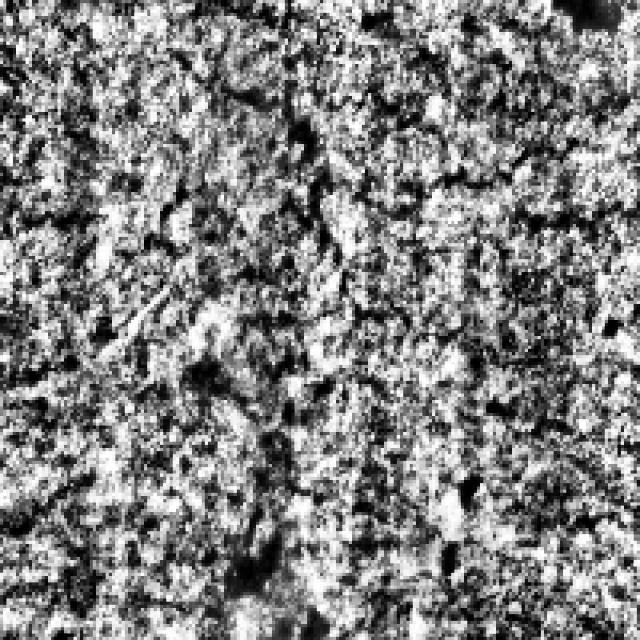Pitted_Surface: (0, 198, 342, 393), (284, 70, 630, 234)
